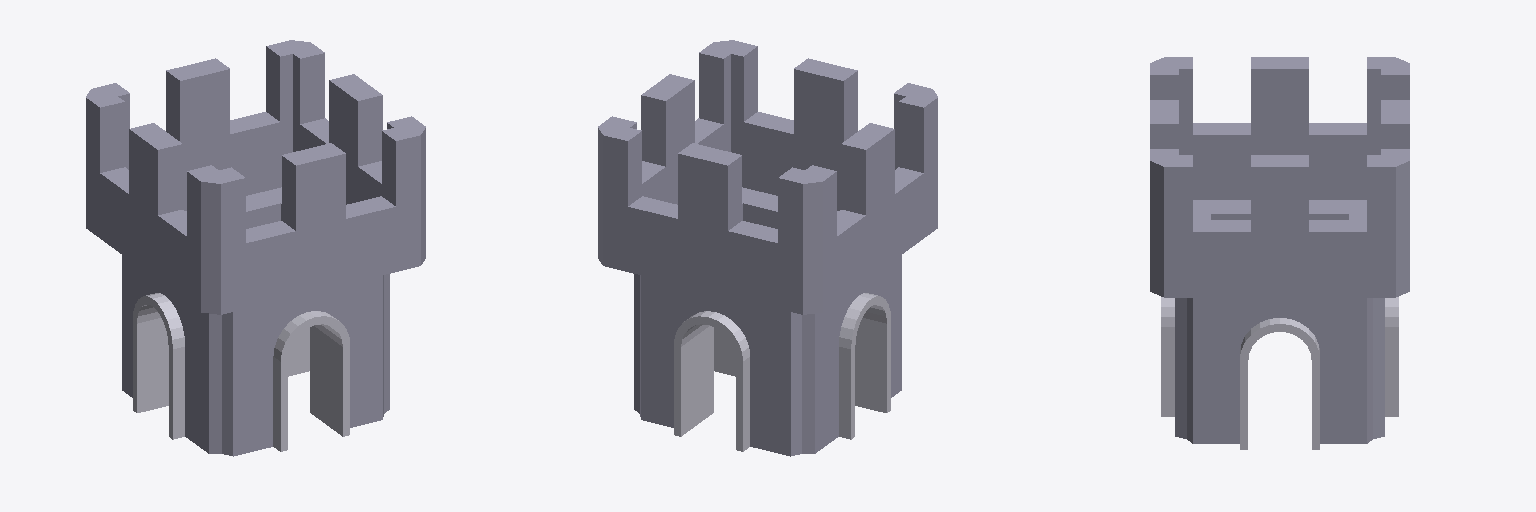
The model's file is rook-tiny-untextured.obj.
The picture shows the model from 3 angles: view 1: azimuth 30°, elevation 25°; view 2: azimuth 150°, elevation 25°; view 3: azimuth 270°, elevation 25°; orthographic projection.
Parts seen in each view (by area): view 1: battlement_corner_6, battlement_corner_7, wall_doorwayRound_2, wall_doorwayRound_1, wall_doorwayRound_0, wall_doorwayRound_3; view 2: battlement_corner_7, battlement_corner_6, wall_doorwayRound_3, wall_doorwayRound_1, wall_doorwayRound_0, wall_doorwayRound_2; view 3: battlement_corner_6, wall_doorwayRound_0, battlement_corner_7, wall_doorwayRound_2, wall_doorwayRound_3, wall_doorwayRound_1.
Part boxes in pixels (x1,y1,x2,y2): battlement_corner_6: (201,40,425,314); battlement_corner_7: (86,40,307,311); wall_doorwayRound_2: (222,275,383,456); wall_doorwayRound_1: (122,255,221,453); wall_doorwayRound_0: (272,190,389,413); wall_doorwayRound_3: (186,187,281,228); battlement_corner_7: (600,89,937,314); battlement_corner_6: (598,40,937,264); wall_doorwayRound_3: (640,275,801,456); wall_doorwayRound_1: (802,255,901,453); wall_doorwayRound_0: (634,190,751,413); wall_doorwayRound_2: (742,187,837,228); battlement_corner_6: (1150,57,1409,297); wall_doorwayRound_0: (1187,298,1372,449); battlement_corner_7: (1152,57,1409,199); wall_doorwayRound_2: (1161,209,1210,438); wall_doorwayRound_3: (1349,211,1398,438); wall_doorwayRound_1: (1193,200,1366,219).
Bounding box in the file's own units: 0.9 × 1.1 × 0.9.